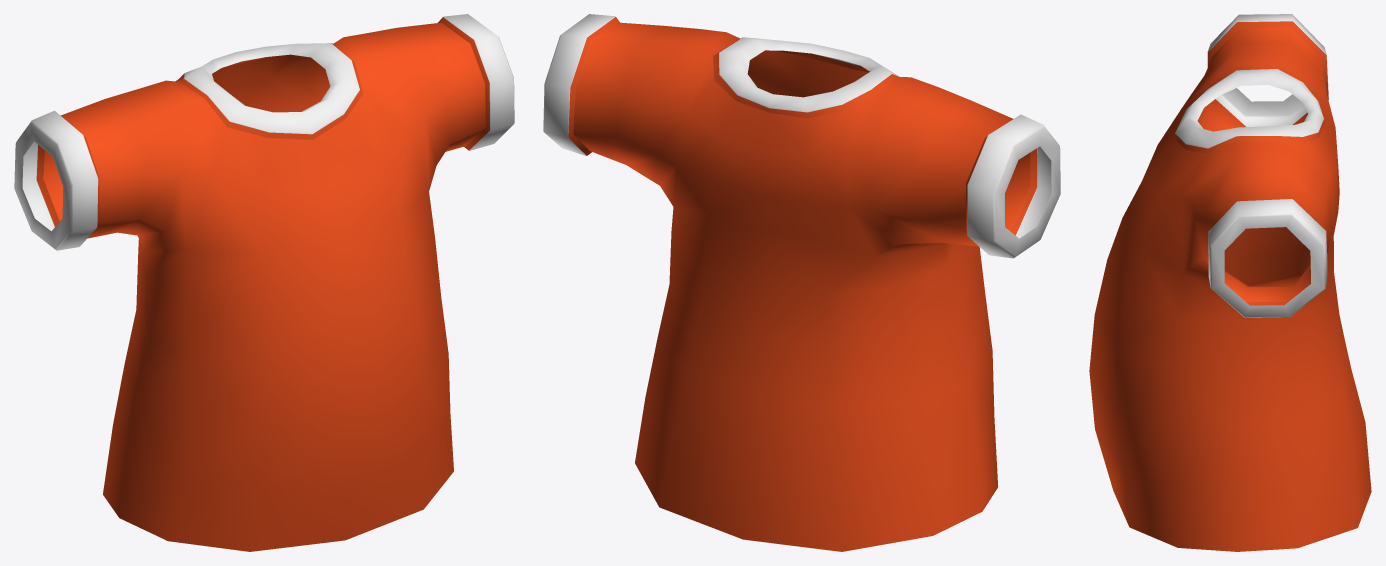
Rendered from Outerwear_Orange_012.glb.
The picture shows the model from 3 angles, left to right: view 1: azimuth 30°, elevation 25°; view 2: azimuth 150°, elevation 25°; view 3: azimuth 270°, elevation 25°; orthographic projection. The views are drawn at different scales.
Visible parts, largest first — view 1: Outerwear_Orange_012; view 2: Outerwear_Orange_012; view 3: Outerwear_Orange_012.
Part boxes in pixels (x1=…): Outerwear_Orange_012: x1=14, y1=14, x2=514, y2=551; Outerwear_Orange_012: x1=543, y1=14, x2=1060, y2=551; Outerwear_Orange_012: x1=1089, y1=14, x2=1371, y2=551.
Bounding box in the file's own units: 0.6902 × 0.6213 × 0.4059.
1 material, 1 textured.
